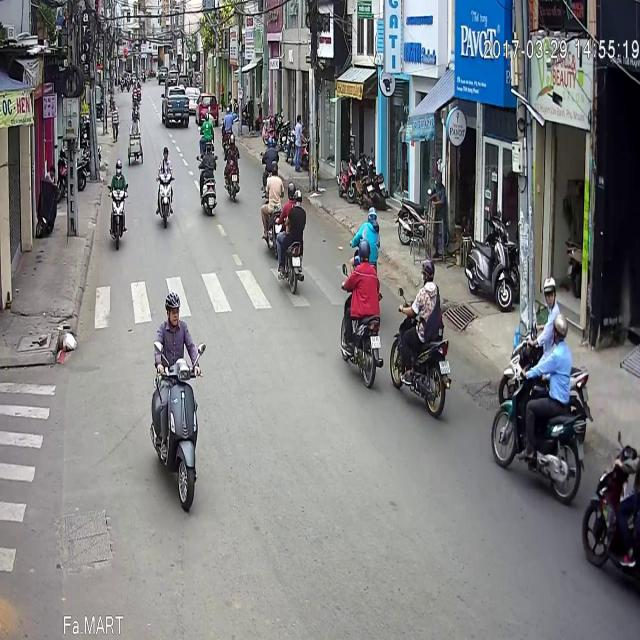car: (161, 27, 189, 70), (194, 32, 220, 68)
motorcycle: (490, 256, 588, 444), (498, 220, 590, 366), (148, 228, 204, 461), (388, 198, 452, 360), (582, 363, 640, 528), (339, 180, 383, 332), (274, 126, 306, 235), (350, 148, 384, 242), (260, 101, 286, 199), (108, 101, 128, 191), (155, 84, 175, 170), (196, 81, 219, 155), (222, 75, 240, 144), (200, 55, 216, 101), (259, 79, 279, 112), (220, 48, 234, 95)
